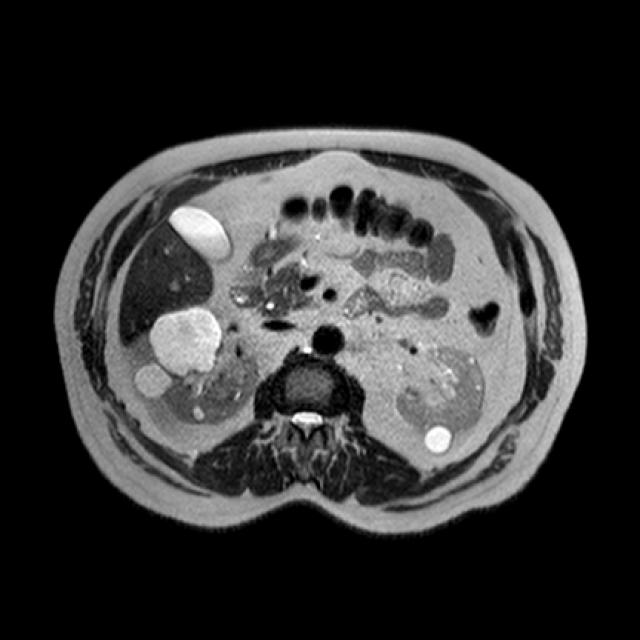sag: (135, 308, 260, 429)
sol: (399, 345, 485, 455)
